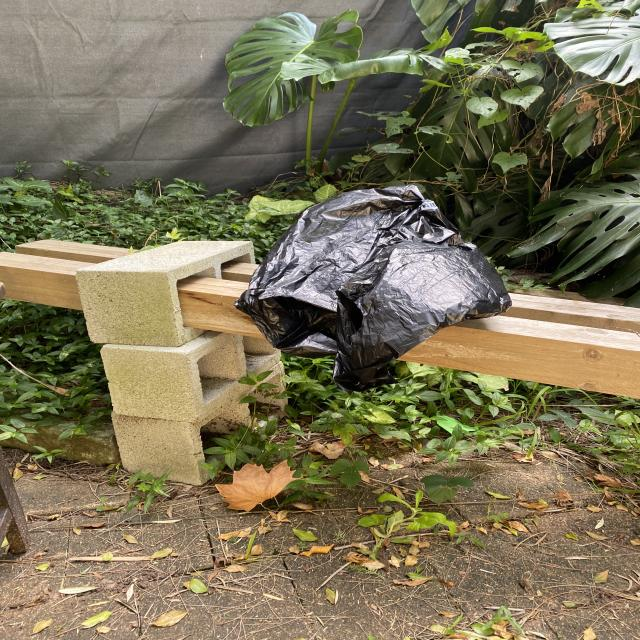bag: (233, 184, 513, 394)
